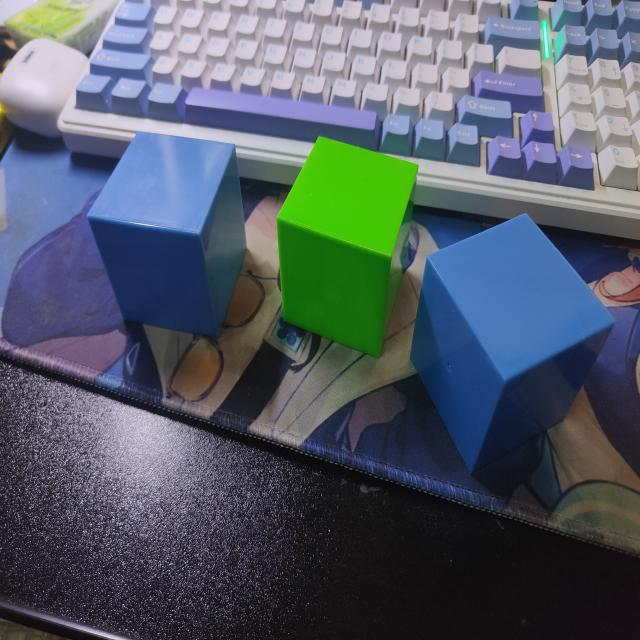blue: (410, 214, 613, 482), (85, 131, 247, 345)
green: (279, 138, 419, 356)
